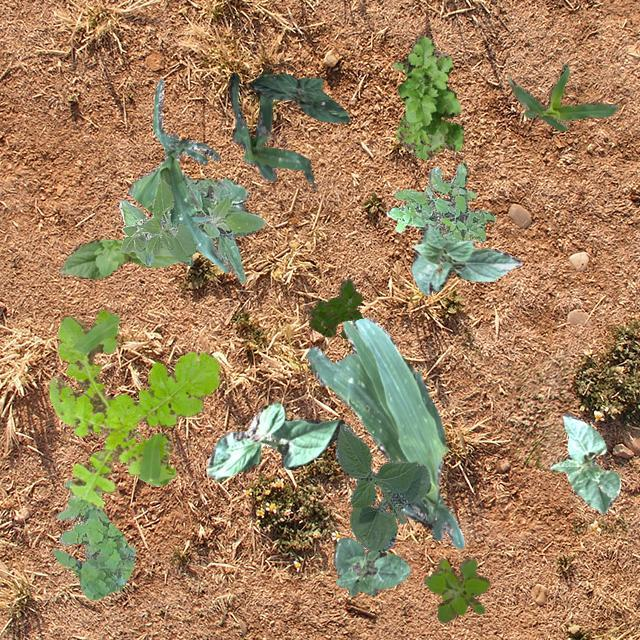crop: (304, 316, 464, 548), (128, 78, 228, 272), (334, 422, 428, 550), (205, 402, 344, 479), (228, 72, 312, 182), (184, 175, 264, 282), (410, 222, 520, 294), (508, 62, 618, 130), (550, 412, 620, 512), (118, 178, 194, 264), (250, 72, 348, 122), (59, 238, 180, 278), (332, 536, 408, 596)
weed: (48, 310, 218, 508), (53, 477, 134, 599), (392, 33, 462, 158), (386, 162, 494, 242), (422, 556, 488, 622), (308, 278, 362, 338)
